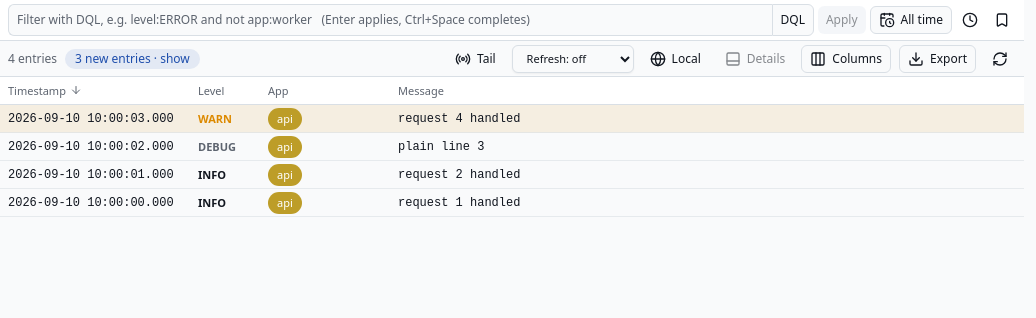
LogTable › keeps the snapshot stable after a batch and shows new entries on request
Click the button "3 new entries · show" at {"x": 132, "y": 58}, box [65,48,200,68]
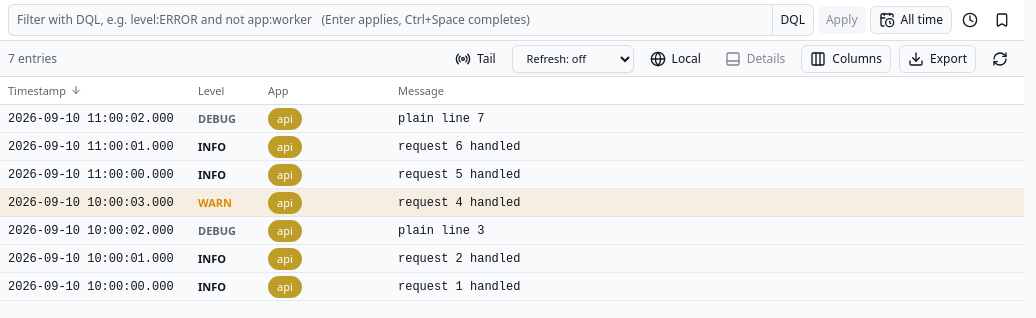
Expected: the button "3 new entries · show" is gone
